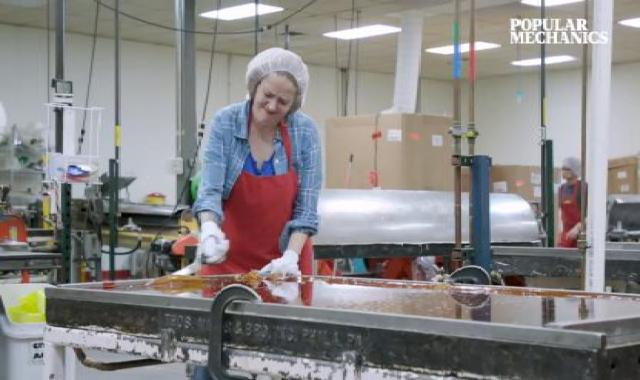hairnet: (240, 48, 312, 122)
